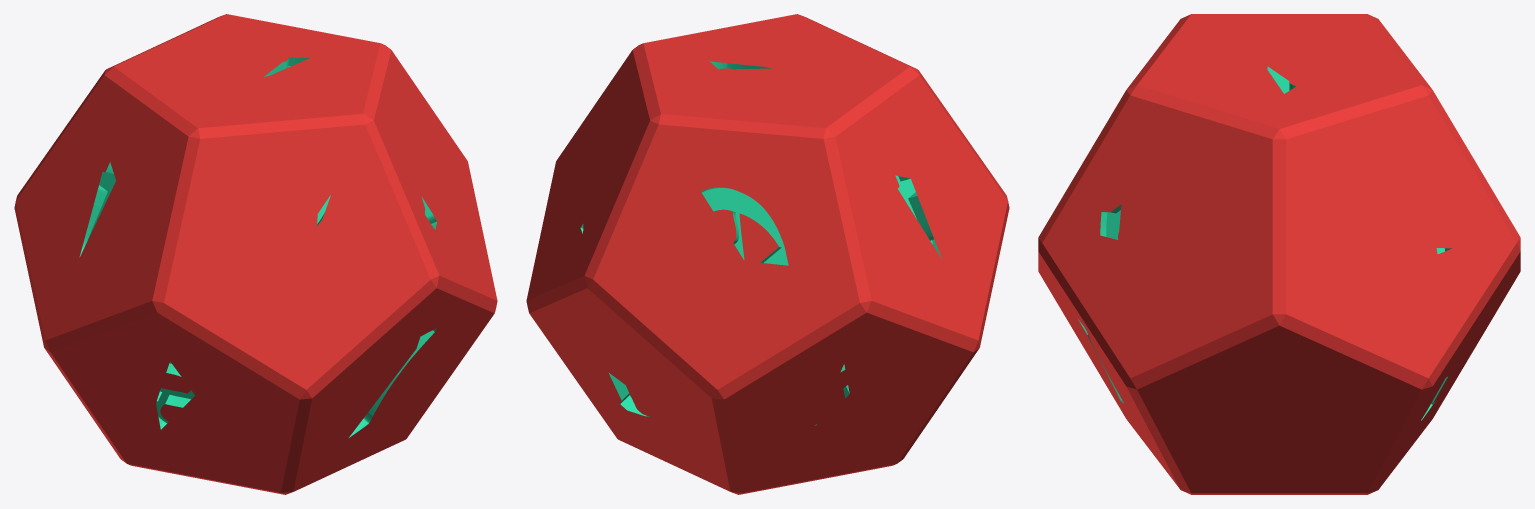
3 views of the same model, side by side, from view 1: azimuth 30°, elevation 25°; view 2: azimuth 150°, elevation 25°; view 3: azimuth 270°, elevation 25° (orthographic). The views are drawn at different scales.
Parts seen in each view (by area): view 1: Solid.004; view 2: Solid.004; view 3: Solid.004.
Boxes of the visible parts, bbox=[...] form: Solid.004: bbox=[14, 14, 497, 494]; Solid.004: bbox=[526, 14, 1009, 494]; Solid.004: bbox=[1038, 14, 1520, 494].
Size of the model in its own units: 181 by 149 by 173.
